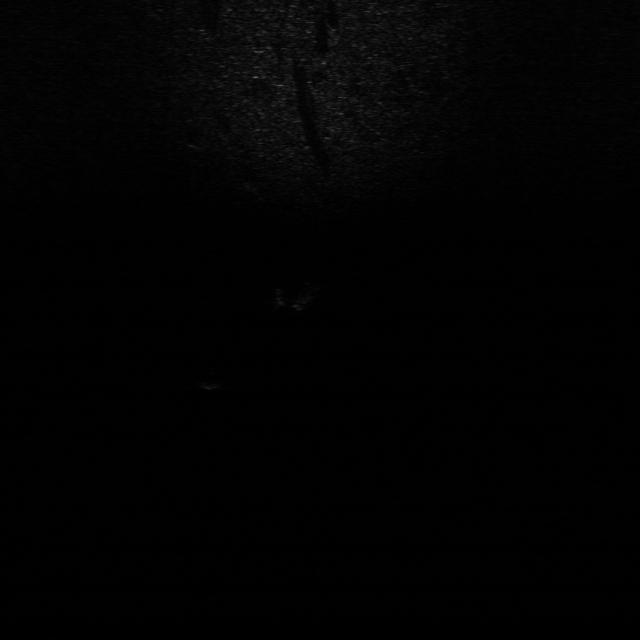ball: (198, 371, 230, 394)
human body: (270, 279, 324, 311)
